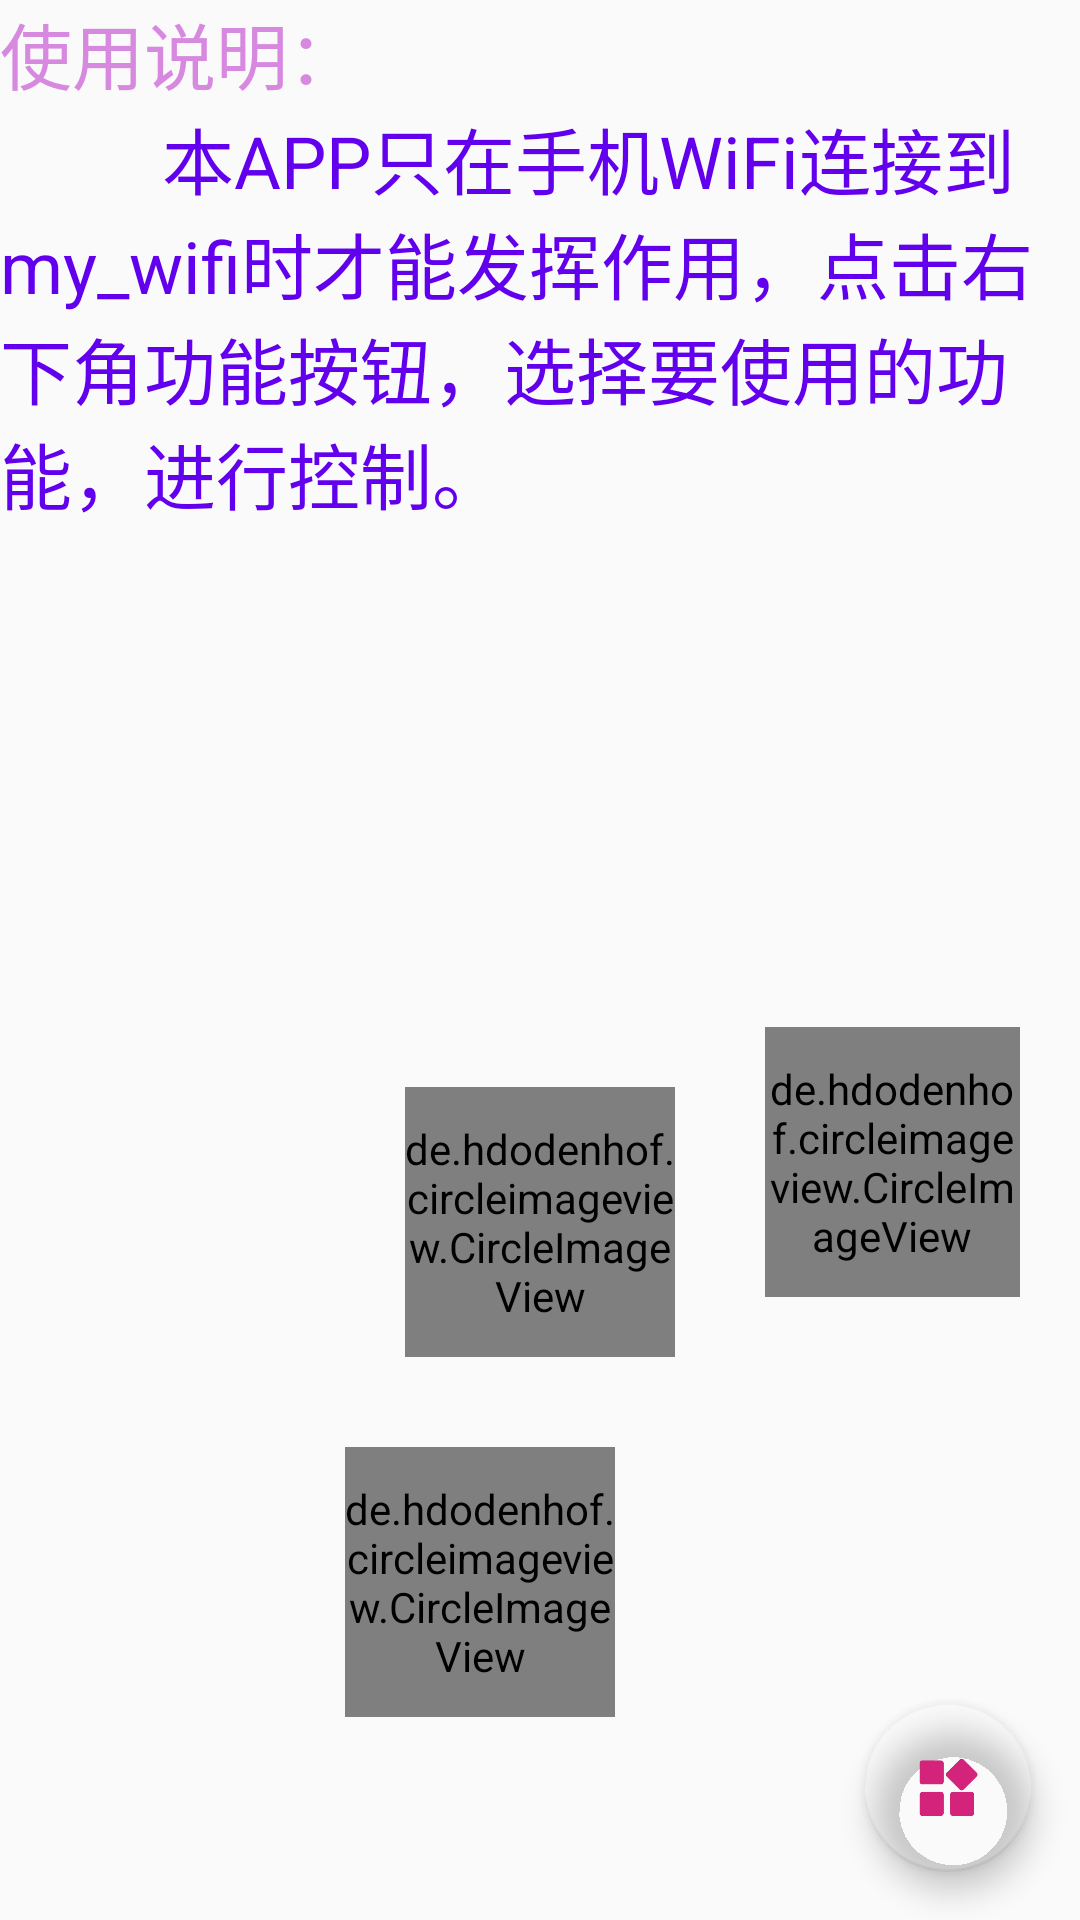

Where icons sit on this 1080 x 1920 app screen, as (x1, y1, x2, y2):
function: (866, 1733, 1032, 1872)
